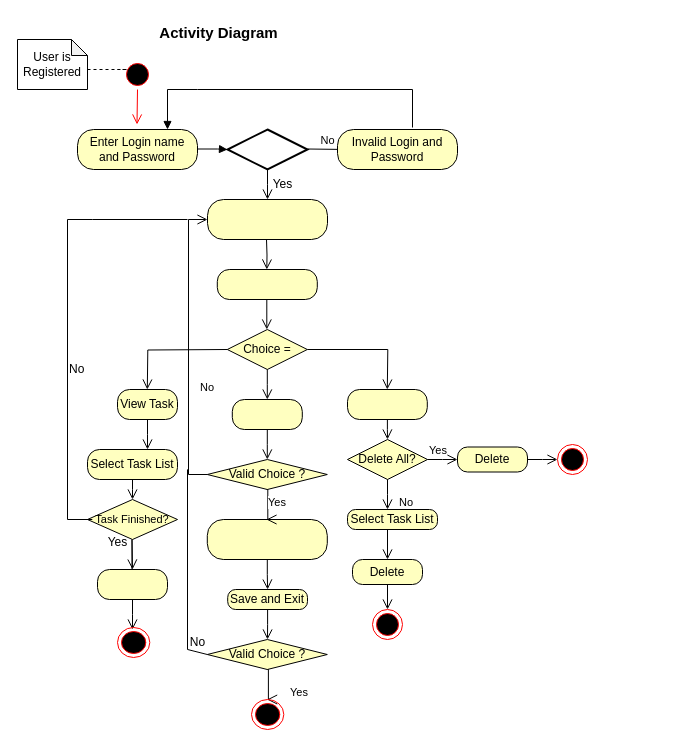
This 683x747 diagram has some shape labels left out. Each missing label, with the centre of its shape:
Add Task: (x=266, y=414)
Add Title, Category and Reminder: (x=266, y=539)
Correct?: (x=267, y=149)
Delete Task: (x=386, y=404)
Display Homepage: (x=267, y=219)
Mark 'Done': (x=132, y=584)
Select Operation: (x=266, y=284)
